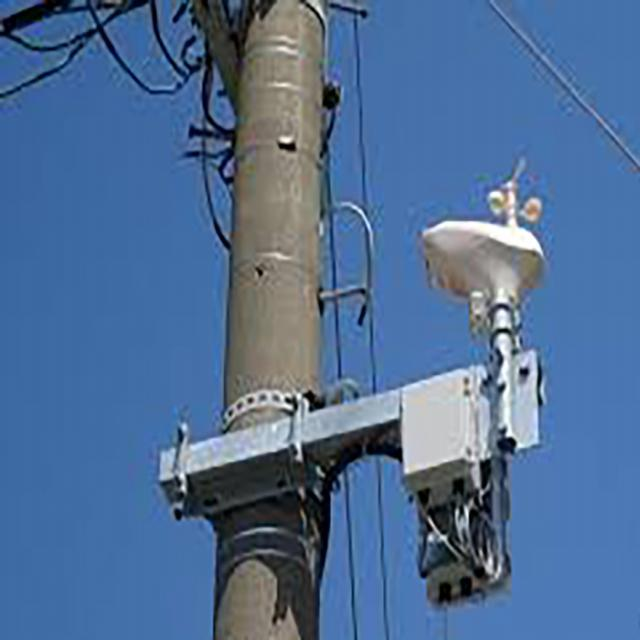pole: (138, 2, 562, 640)
